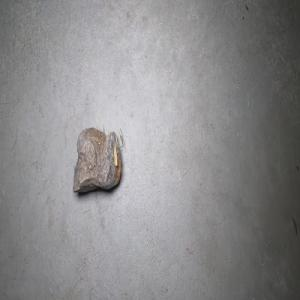Rock: (72, 124, 124, 192)
